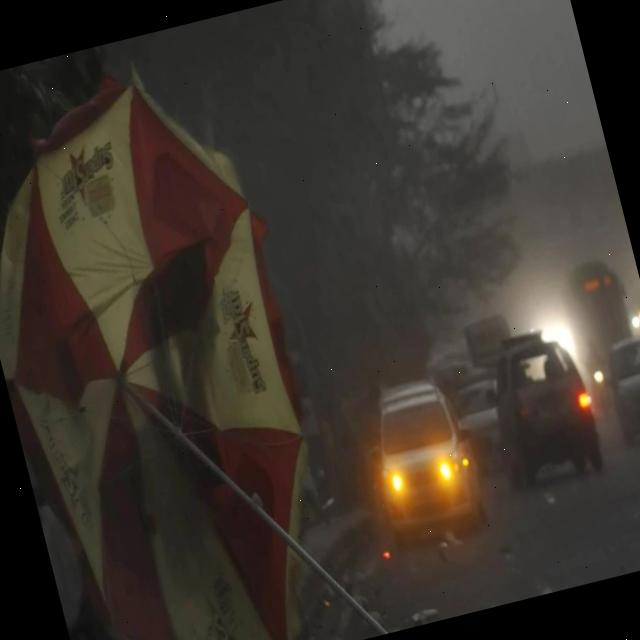car: (354, 372, 494, 554), (475, 322, 612, 494), (442, 362, 518, 478), (597, 328, 640, 445)
truck: (556, 257, 640, 404)
